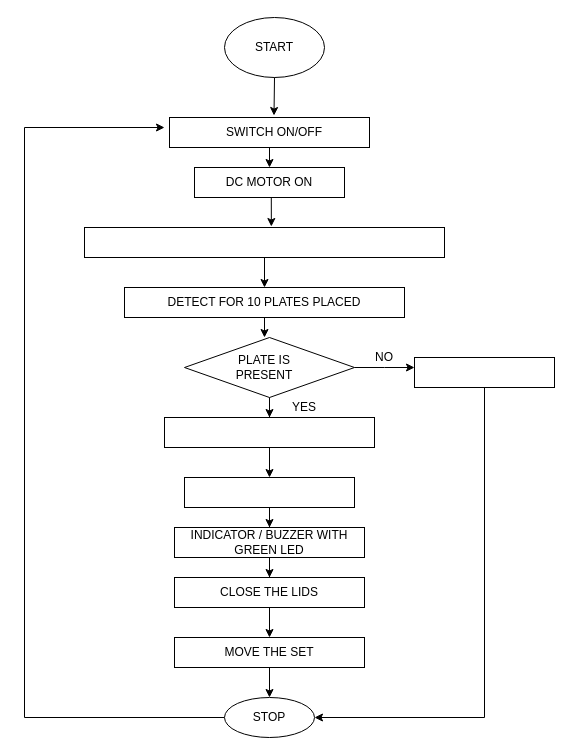
Some shapes in this 572 by 755 pixel diagram are drawn without their labels. Each missing label, with the centre of its shape:
ORANGE LED BLINKS: (269,432)
RED LIGHT BLINKS: (484,372)
SENSOR FOR DETECTION OF PLATES: (264,242)
TURN ON NOZZLE TO FILL PLATES: (269,492)
